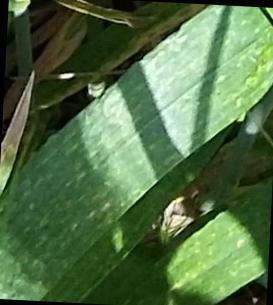Potato: (22, 75, 172, 265), (139, 7, 268, 152)
